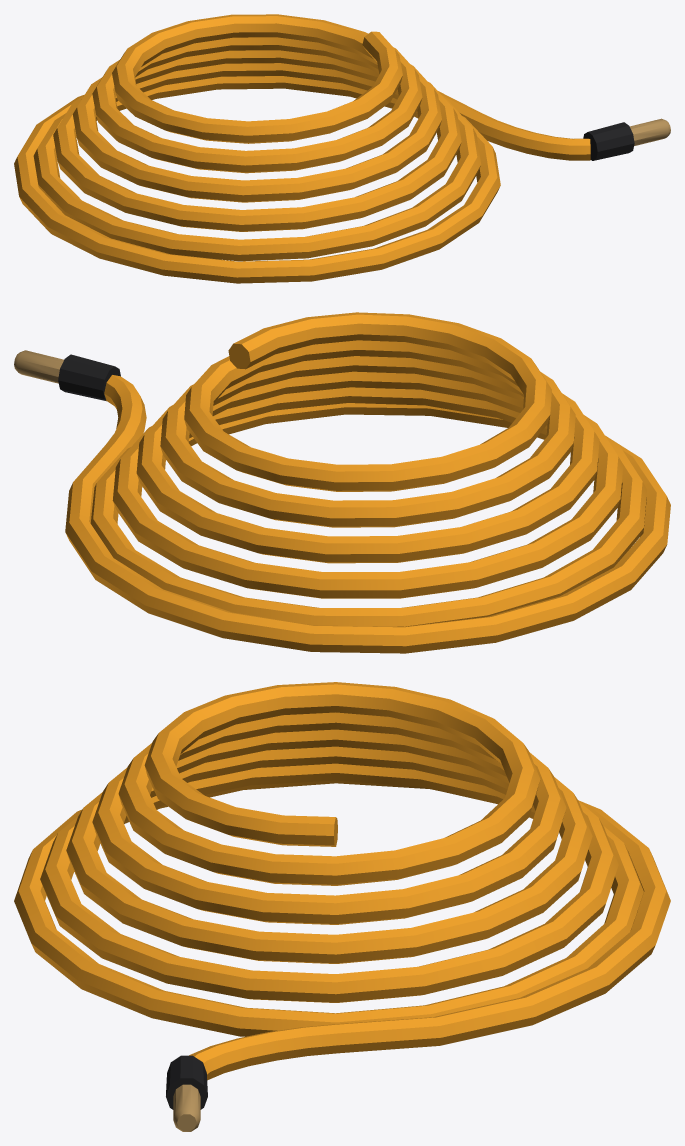
File: hose_coiled.glb
The picture shows the model from 3 angles, top to bottom: view 1: azimuth 30°, elevation 25°; view 2: azimuth 150°, elevation 25°; view 3: azimuth 270°, elevation 25°; orthographic projection. The views are drawn at different scales.
Parts seen in each view (by area): view 1: hose_coiled; view 2: hose_coiled; view 3: hose_coiled.
Boxes of the visible parts, left/top/right/bottom form: hose_coiled: left=14, top=14, right=670, bottom=283; hose_coiled: left=14, top=312, right=670, bottom=653; hose_coiled: left=14, top=682, right=670, bottom=1131.
Bounding box in the file's own units: 0.6945 × 0.15 × 0.529.
